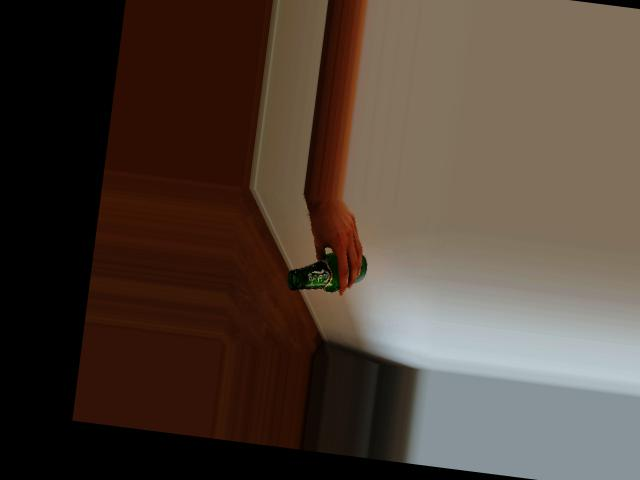beer: (285, 247, 367, 298)
